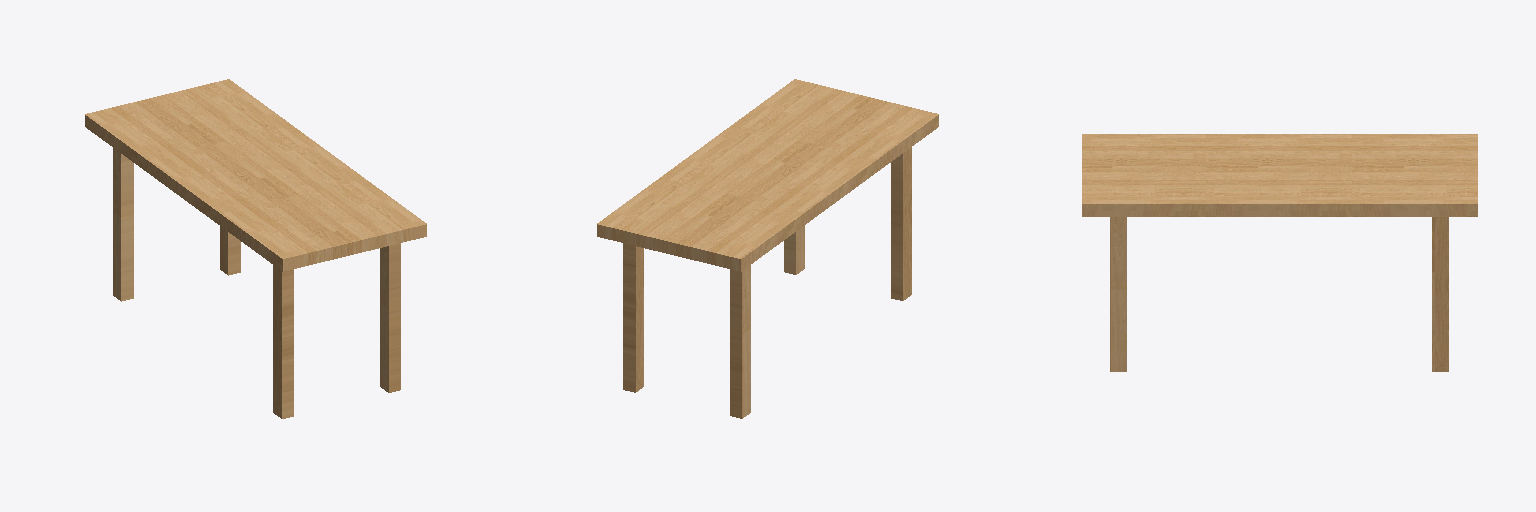
3 views of the same model, side by side, from view 1: azimuth 30°, elevation 25°; view 2: azimuth 150°, elevation 25°; view 3: azimuth 270°, elevation 25° (orthographic).
Parts seen in each view (by area): view 1: Cube, Cube.002, Cube.001, Cube.003, Cube.004; view 2: Cube, Cube.003, Cube.004, Cube.002, Cube.001; view 3: Cube, Cube.004, Cube.001.
Boxes of the visible parts, box(x1,y1,x2,y2) form: Cube: box(85, 79, 426, 271); Cube.002: box(273, 265, 293, 418); Cube.001: box(380, 243, 400, 392); Cube.003: box(113, 148, 133, 301); Cube.004: box(220, 226, 240, 275); Cube: box(597, 79, 938, 271); Cube.003: box(730, 265, 750, 418); Cube.004: box(623, 243, 643, 392); Cube.002: box(891, 147, 911, 300); Cube.001: box(784, 225, 804, 274); Cube: box(1082, 134, 1477, 216); Cube.004: box(1432, 217, 1448, 371); Cube.001: box(1110, 217, 1126, 371).
Bounding box in the file's own units: 2.42 × 2.78 × 5.76.
2 materials, 1 textured.